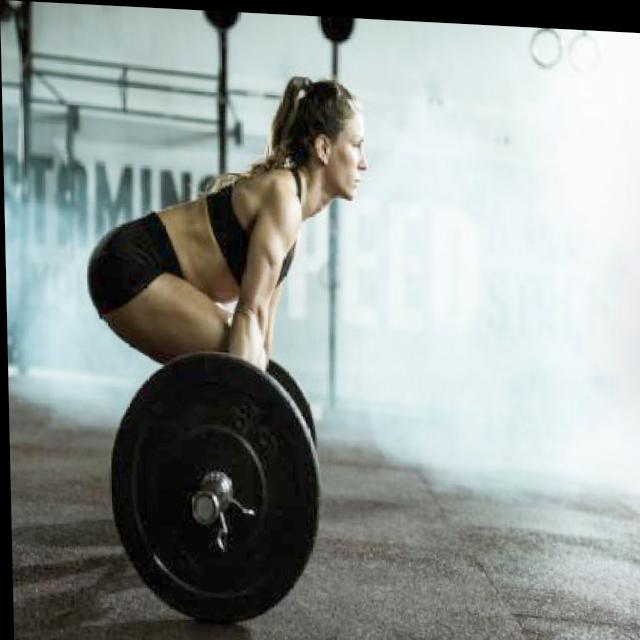barbell: (100, 331, 223, 530)
